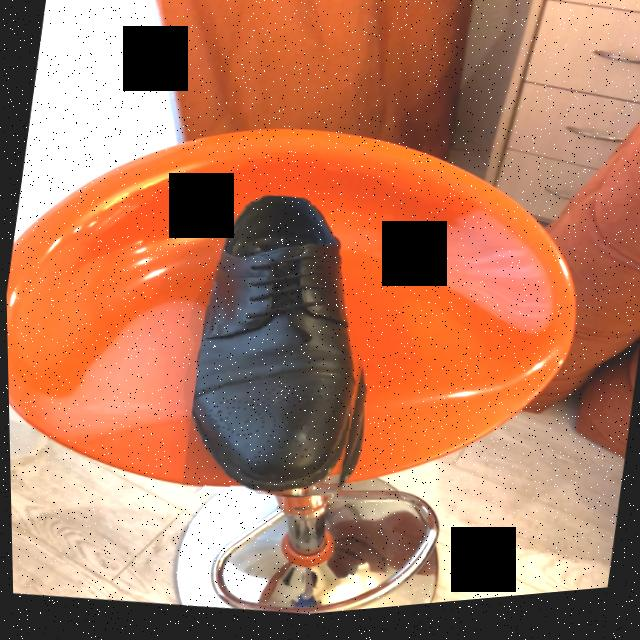shoe: (191, 201, 357, 502)
